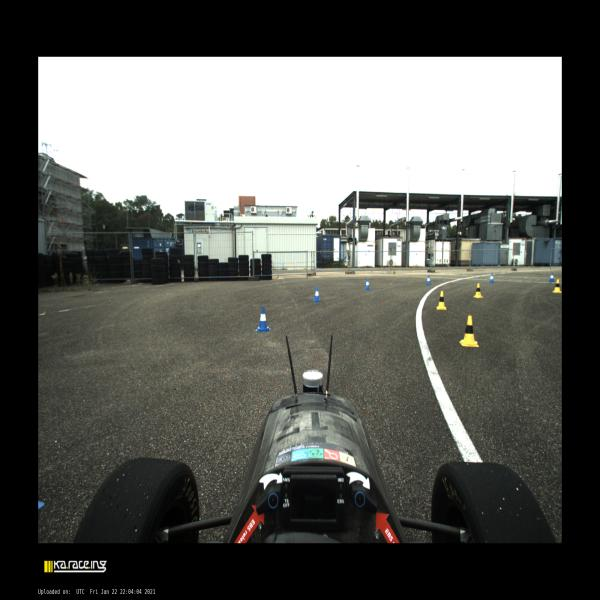blue_cone: (255, 307, 271, 332), (313, 287, 321, 302), (364, 278, 370, 290), (549, 272, 555, 282), (426, 275, 431, 285), (489, 273, 494, 283)
yellow_cone: (459, 316, 479, 347), (436, 291, 446, 310), (473, 283, 483, 298), (552, 279, 562, 293)
